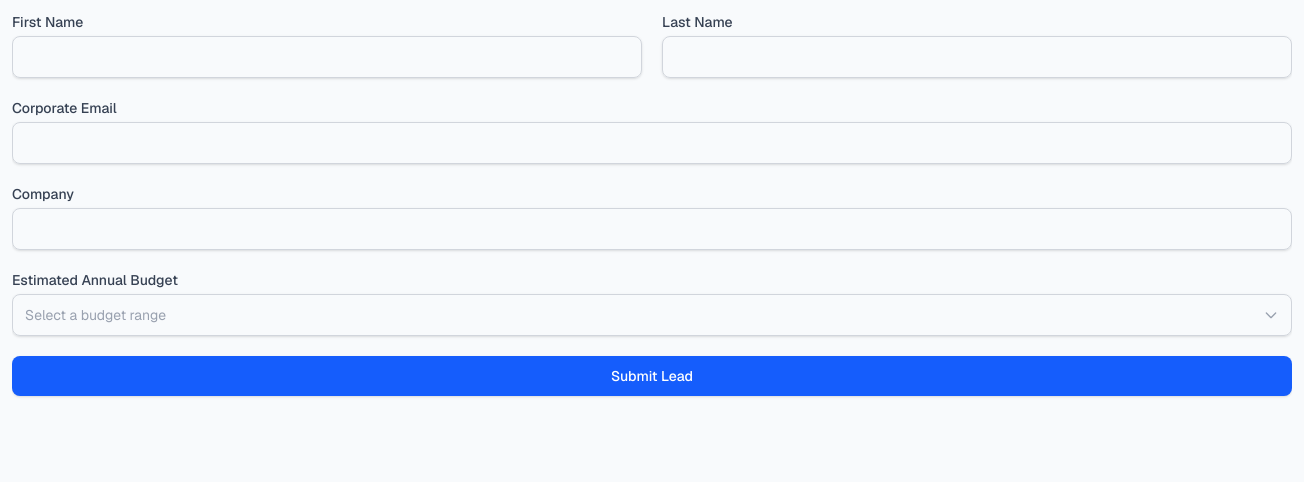
LeadForm › opens budget dropdown on click and shows all options
Click the dropdown at (96, 315), box [12,294,1292,336]
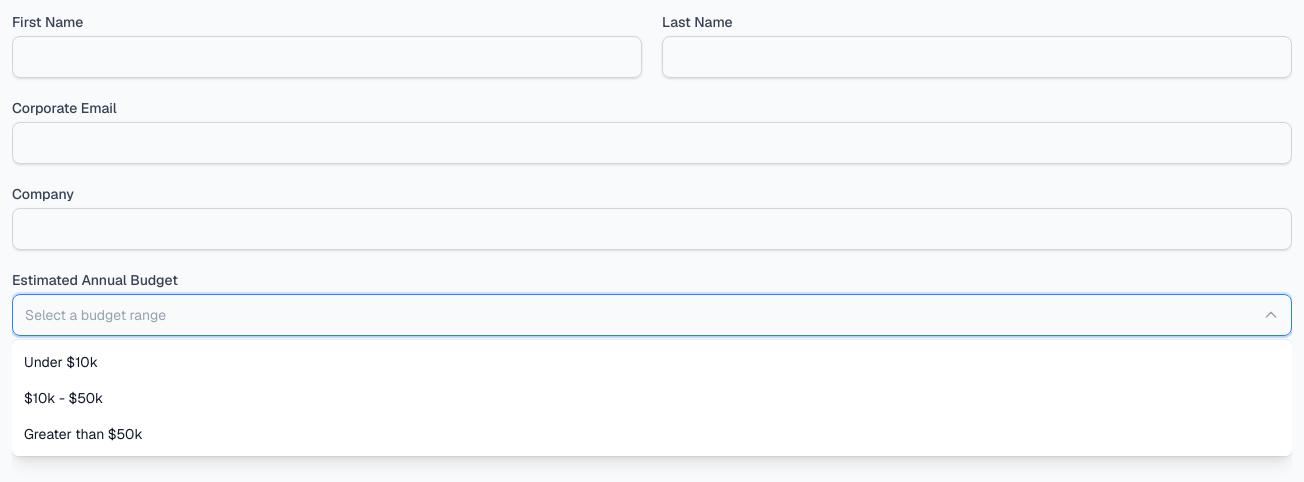
Expected: the option "Under $10k" is shown, [24,353,98,371]
Expected: the option "$10k - $50k" is shown, [24,389,103,407]
Expected: the option "Greater than $50k" is shown, [24,425,143,443]
